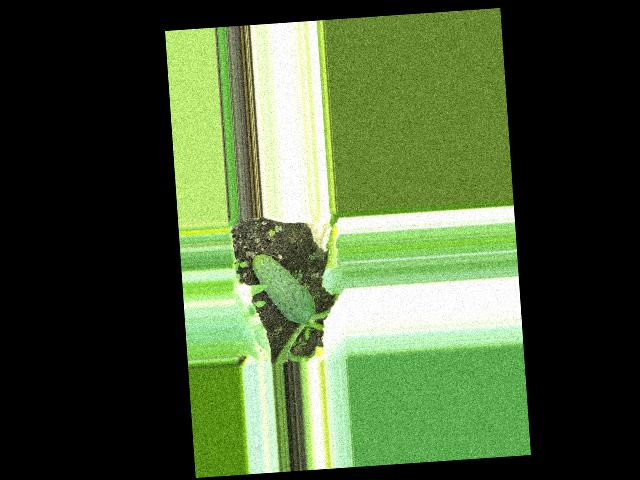cucumber: (251, 250, 316, 327)
